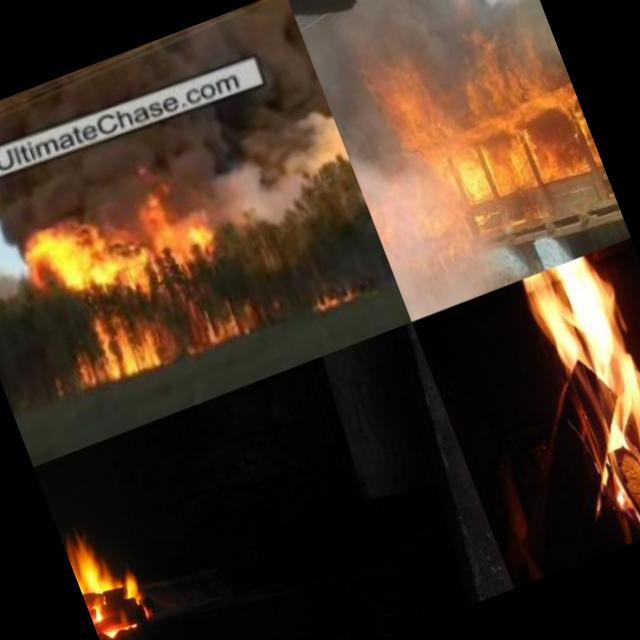fire: (381, 22, 614, 256), (503, 248, 640, 553), (14, 198, 138, 309), (60, 514, 163, 640), (59, 306, 174, 394), (130, 178, 218, 278), (178, 288, 261, 356), (307, 271, 369, 317)
smoke: (168, 97, 358, 243), (354, 138, 500, 322), (371, 0, 516, 95)
